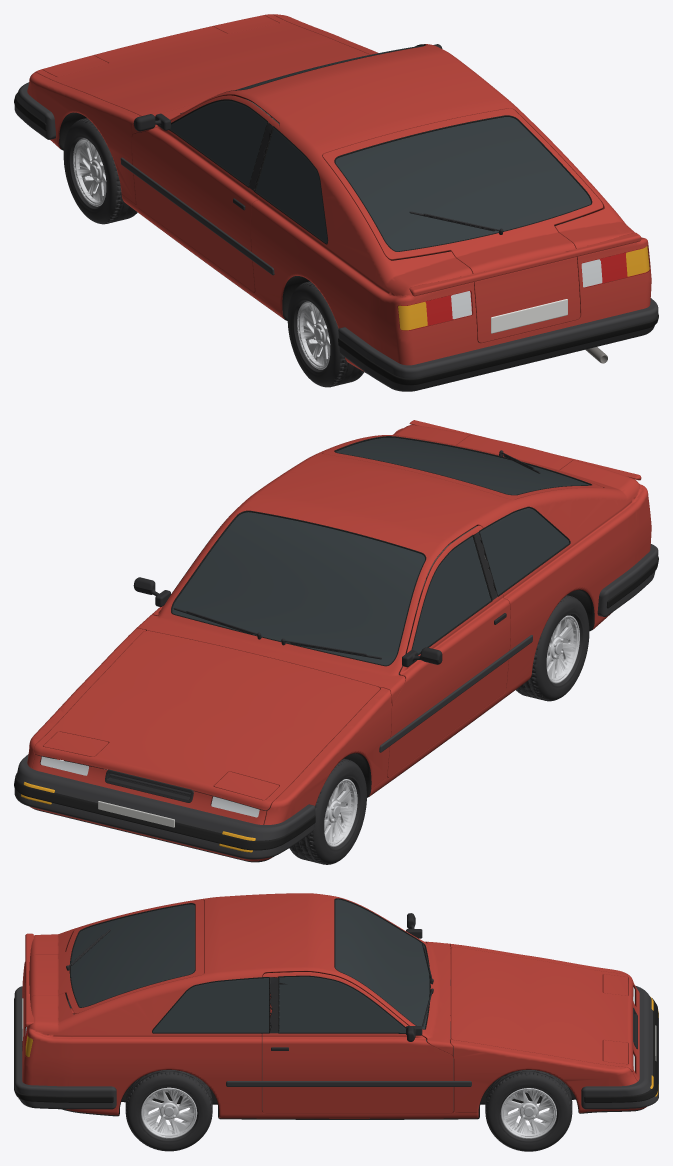
The model's file is hikari.glb.
The picture shows the model from 3 angles, top to bottom: view 1: azimuth 30°, elevation 25°; view 2: azimuth 150°, elevation 25°; view 3: azimuth 270°, elevation 25°; orthographic projection. The views are drawn at different scales.
Visible parts, largest first — view 1: Body, Glass_Rear, Hood, Trunk, Door_FL, Bumper_R, Glass_FL, Glass_QL, Fender_FL, Wheel_FL_Tyre, Wheel_RL_Tyre, Bumper_R_Strip (+9 smaller); view 2: Body, Hood, Glass_Front, Door_FL, Bumper_F, Glass_Rear, Fender_FL, Glass_FL, Glass_QL, Trunk, Wheel_FL_Tyre, Wheel_RL_Tyre (+8 smaller); view 3: Body, Hood, Door_FR, Glass_Rear, Glass_Front, Fender_FR, Glass_FR, Glass_QR, Trunk, Wheel_FR_Tyre, Wheel_RR_Tyre, Bumper_F (+7 smaller).
Part boxes in pixels (bbox=[...]): Body: bbox=[53, 44, 651, 373]; Glass_Rear: bbox=[334, 115, 592, 251]; Hood: bbox=[35, 14, 369, 116]; Trunk: bbox=[322, 108, 641, 342]; Door_FL: bbox=[132, 95, 279, 291]; Bumper_R: bbox=[338, 298, 658, 391]; Glass_FL: bbox=[169, 99, 268, 187]; Glass_QL: bbox=[254, 126, 328, 244]; Fender_FL: bbox=[27, 72, 140, 203]; Wheel_FL_Tyre: bbox=[63, 118, 137, 224]; Wheel_RL_Tyre: bbox=[287, 281, 363, 387]; Bumper_R_Strip: bbox=[338, 313, 658, 385]; Body: bbox=[29, 424, 651, 862]; Hood: bbox=[34, 630, 380, 810]; Glass_Front: bbox=[171, 510, 426, 666]; Door_FL: bbox=[387, 525, 510, 777]; Bumper_F: bbox=[14, 754, 315, 859]; Glass_Rear: bbox=[334, 436, 591, 495]; Fender_FL: bbox=[258, 687, 391, 860]; Glass_FL: bbox=[406, 535, 492, 655]; Glass_QL: bbox=[406, 506, 570, 651]; Trunk: bbox=[322, 420, 641, 499]; Wheel_FL_Tyre: bbox=[289, 758, 366, 864]; Wheel_RL_Tyre: bbox=[516, 595, 589, 701]; Body: bbox=[22, 893, 646, 1119]; Hood: bbox=[451, 947, 633, 1071]; Door_FR: bbox=[262, 972, 453, 1113]; Glass_Rear: bbox=[69, 903, 195, 1007]; Glass_Front: bbox=[334, 898, 430, 1029]; Fender_FR: bbox=[450, 1039, 645, 1112]; Glass_FR: bbox=[278, 975, 405, 1033]; Glass_QR: bbox=[152, 977, 272, 1033]; Trunk: bbox=[22, 899, 204, 1046]; Wheel_FR_Tyre: bbox=[485, 1070, 572, 1151]; Wheel_RR_Tyre: bbox=[125, 1070, 212, 1151]; Bumper_F: bbox=[581, 985, 658, 1109].
Size of the model in its own units: 1.9 by 1.3 by 4.3.
